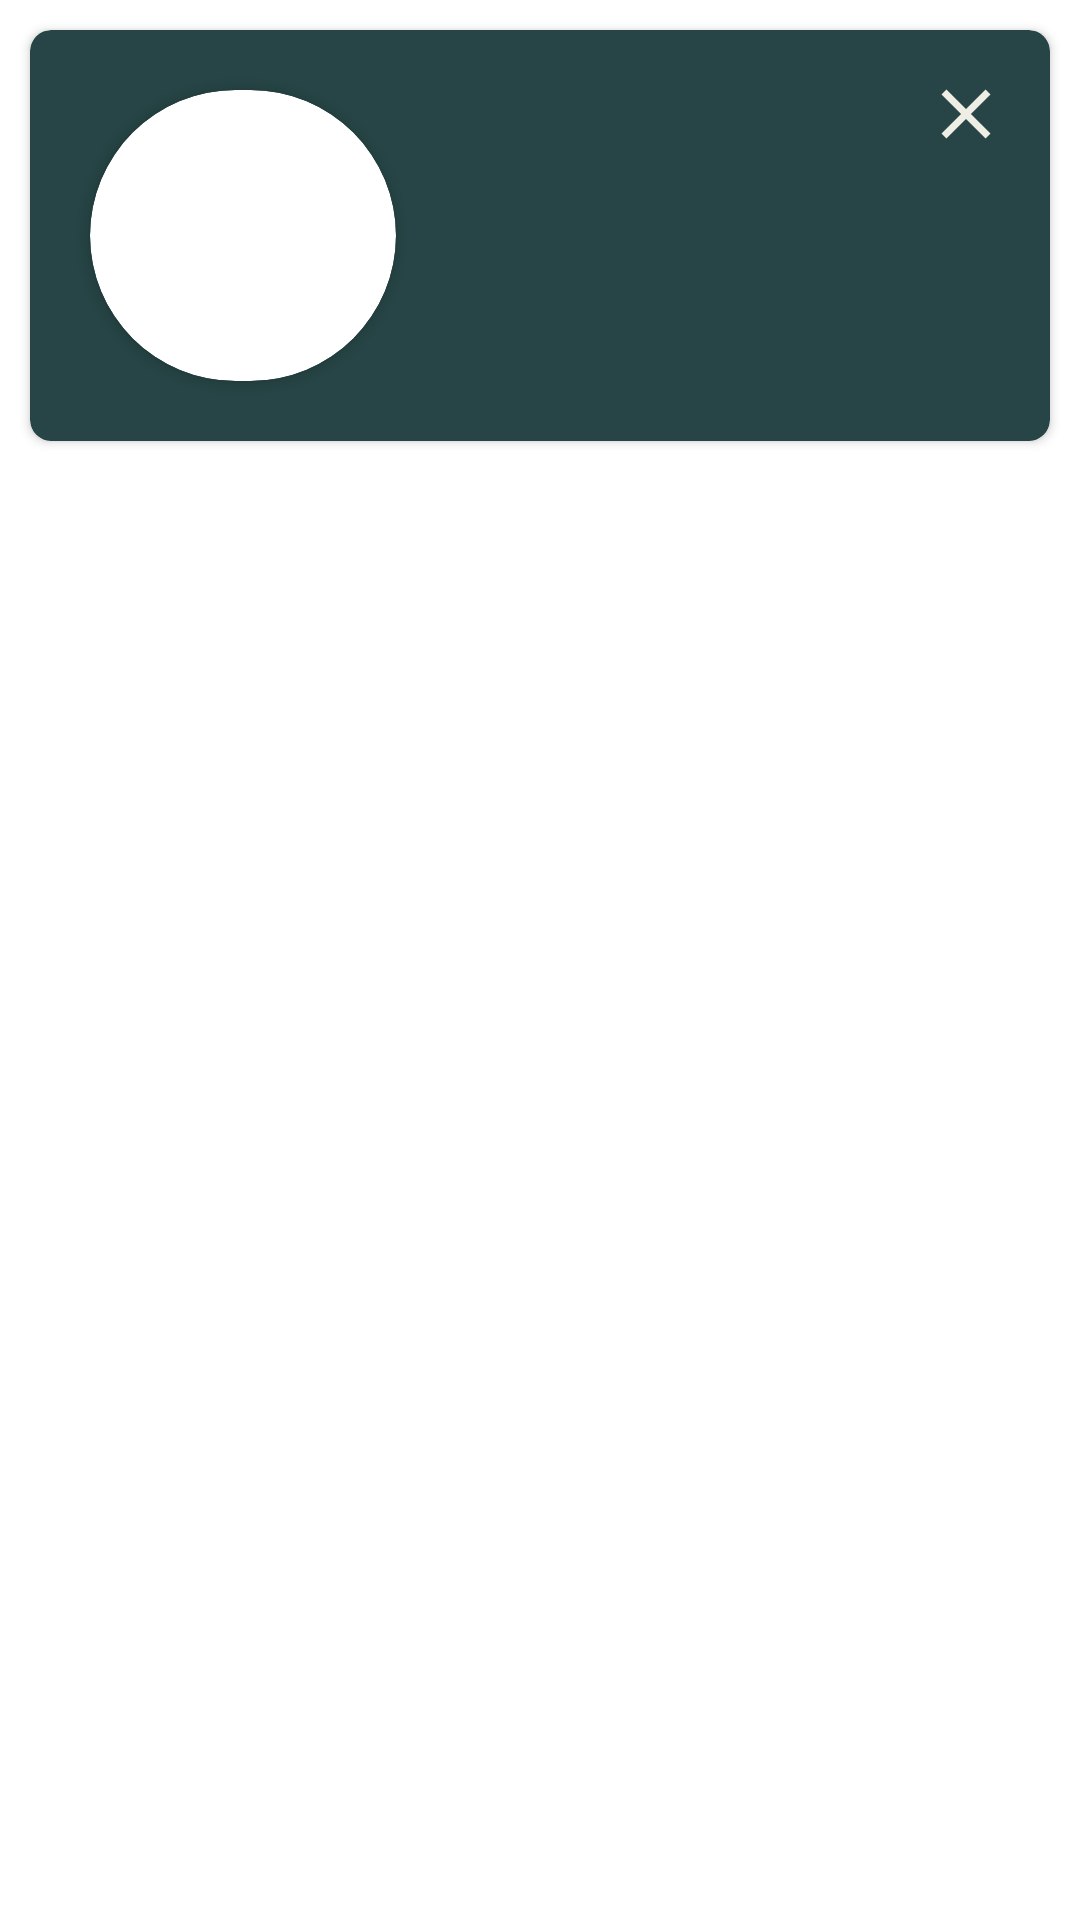

Screen size 1080x1920. Icon name, then its box in pixels as (x1, y1, x2, y2):
close: (941, 89, 991, 139)
